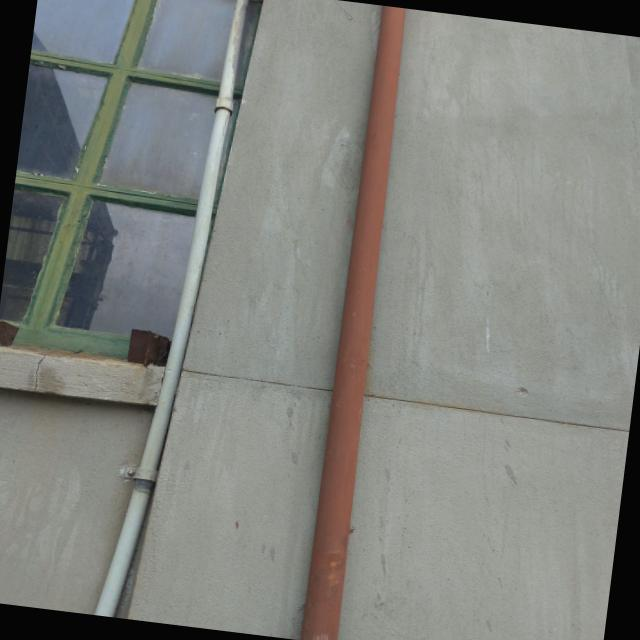gas: (294, 5, 406, 640)
